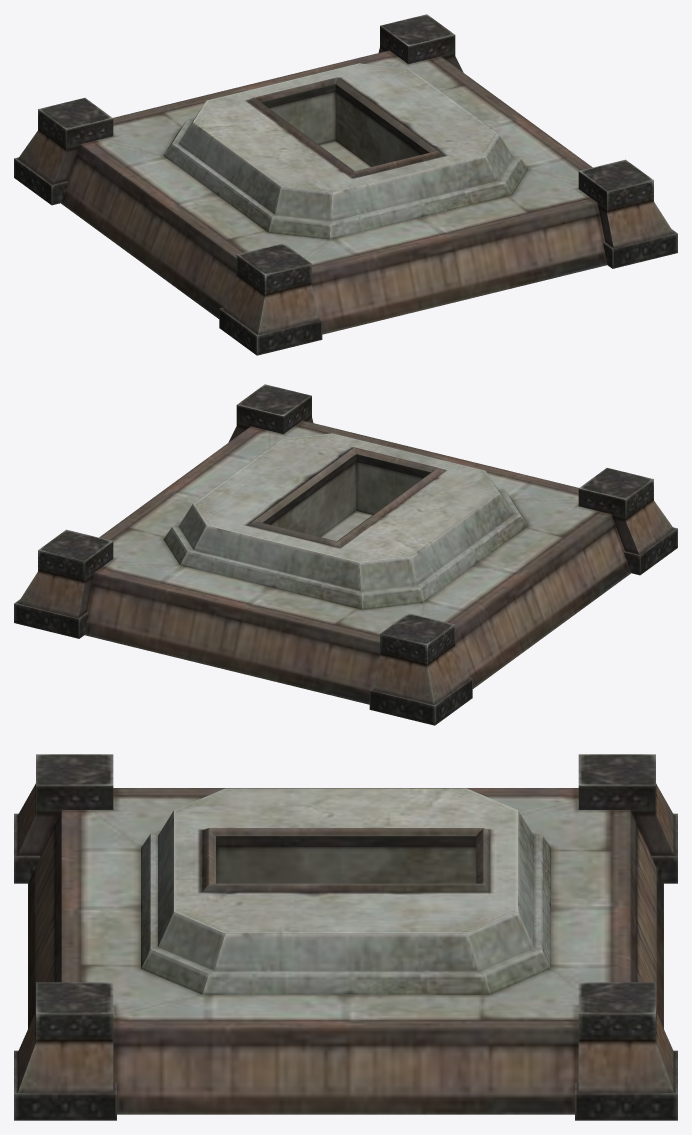
Rendered from big_defensive_position_00.glb.
3 renders of one model, top to bottom at view 1: azimuth 30°, elevation 25°; view 2: azimuth 150°, elevation 25°; view 3: azimuth 270°, elevation 25°, orthographic. The views are drawn at different scales.
Visible parts, largest first — view 1: res\artifact\guild\defensive\big_defensive_position_00.bsr; view 2: res\artifact\guild\defensive\big_defensive_position_00.bsr; view 3: res\artifact\guild\defensive\big_defensive_position_00.bsr.
Part boxes in pixels (x1,y1,x2,y2): res\artifact\guild\defensive\big_defensive_position_00.bsr: (14, 14, 677, 355); res\artifact\guild\defensive\big_defensive_position_00.bsr: (14, 384, 677, 725); res\artifact\guild\defensive\big_defensive_position_00.bsr: (14, 754, 677, 1120).
Size of the model in its own units: 105 by 21.68 by 105.
Materials: 1 (1 with a texture image).
